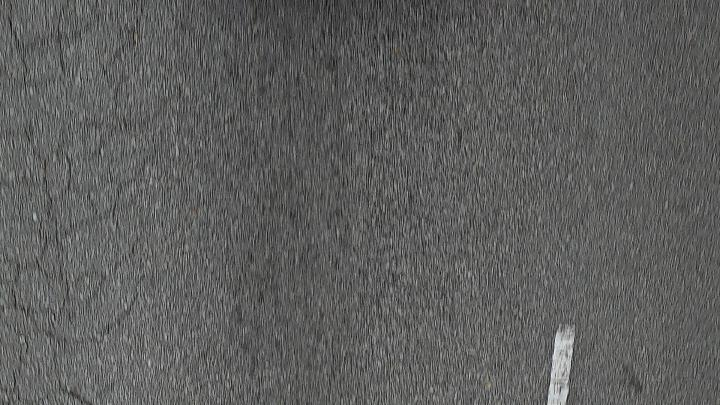Crack: (0, 5, 153, 379), (0, 12, 148, 375)
Lane: (541, 321, 580, 405), (546, 325, 574, 404)
